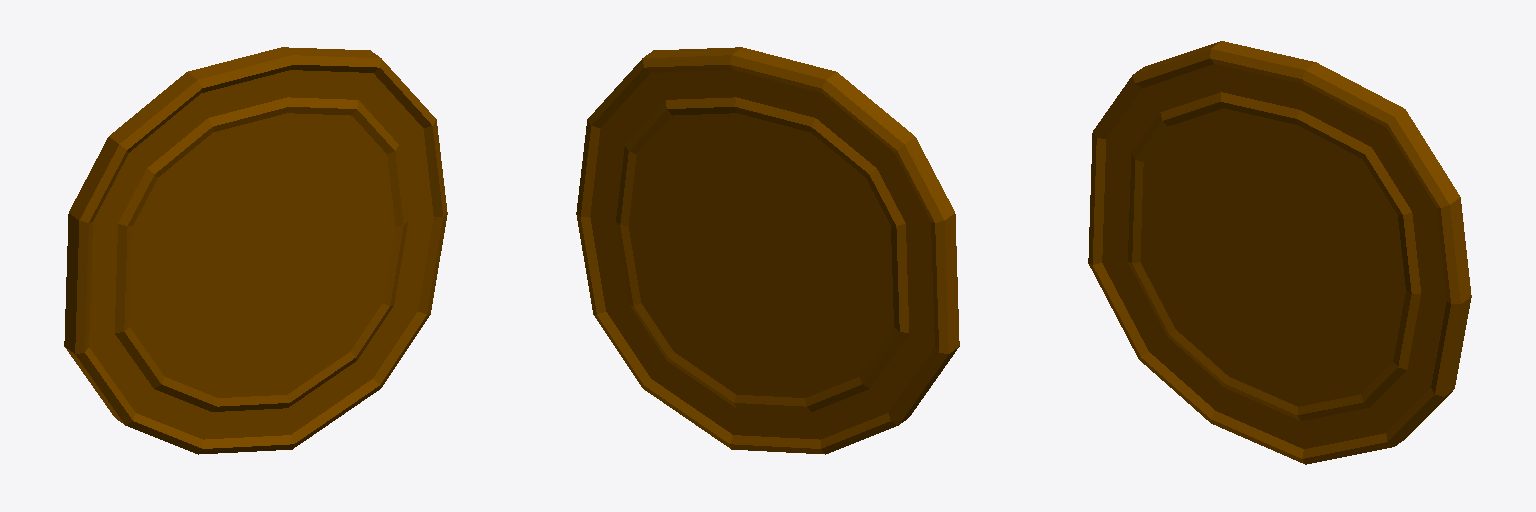
File: dubloon_blank.obj
3 views of the same model, side by side, from view 1: azimuth 30°, elevation 25°; view 2: azimuth 150°, elevation 25°; view 3: azimuth 330°, elevation 25° (orthographic).
Visible parts, largest first — view 1: Cylinder002; view 2: Cylinder002; view 3: Cylinder002.
Part boxes in pixels (bbox=[...]): Cylinder002: bbox=[64, 47, 447, 454]; Cylinder002: bbox=[576, 47, 959, 454]; Cylinder002: bbox=[1088, 41, 1471, 464].
Size of the model in its own units: 21.4 by 21.66 by 1.61.